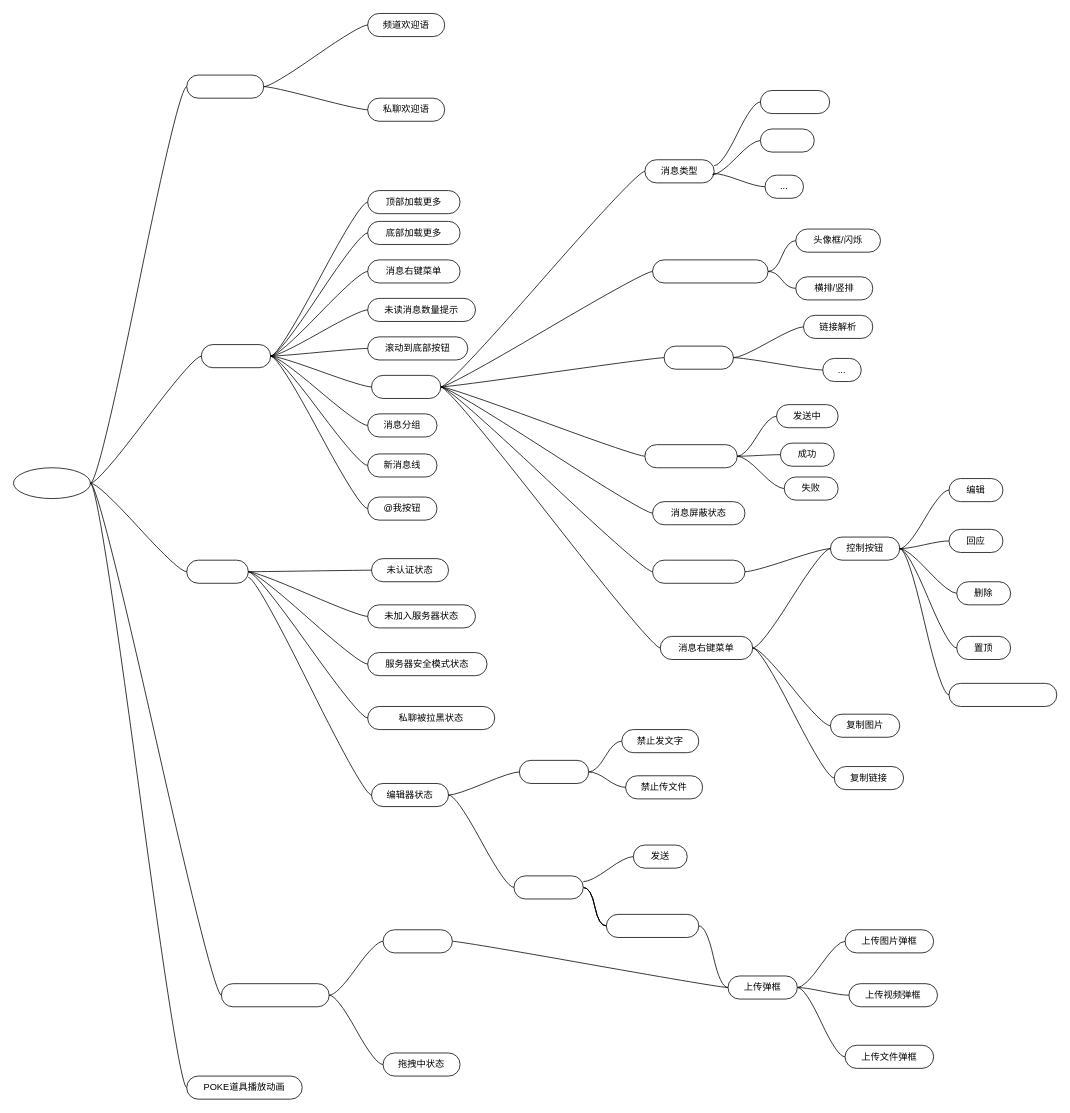
The diagram is 1070 pixels wide and 1113 high, and some of its shapes have lost their labels. The shapes that lost their labels are listed below. From the top down, each one's centre as x and y in pixels, then its label:
pixel 225 86: 头部欢迎语
pixel 795 102: cardMsg
pixel 787 140: KMD
pixel 710 271: 消息头像/时间/布局
pixel 236 356: 消息列表
pixel 698 357: Embeds
pixel 406 386: 消息内容
pixel 690 456: 消息发送状态
pixel 51 483: TextRoom组件
pixel 217 571: 编辑器
pixel 698 571: 消息hover状态
pixel 1002 694: 举报、复制、删除
pixel 554 771: 禁用状态
pixel 548 887: 正常状态
pixel 417 941: 松手状态
pixel 652 925: 点击上传文件
pixel 275 995: 拖拽上传文件浮层
